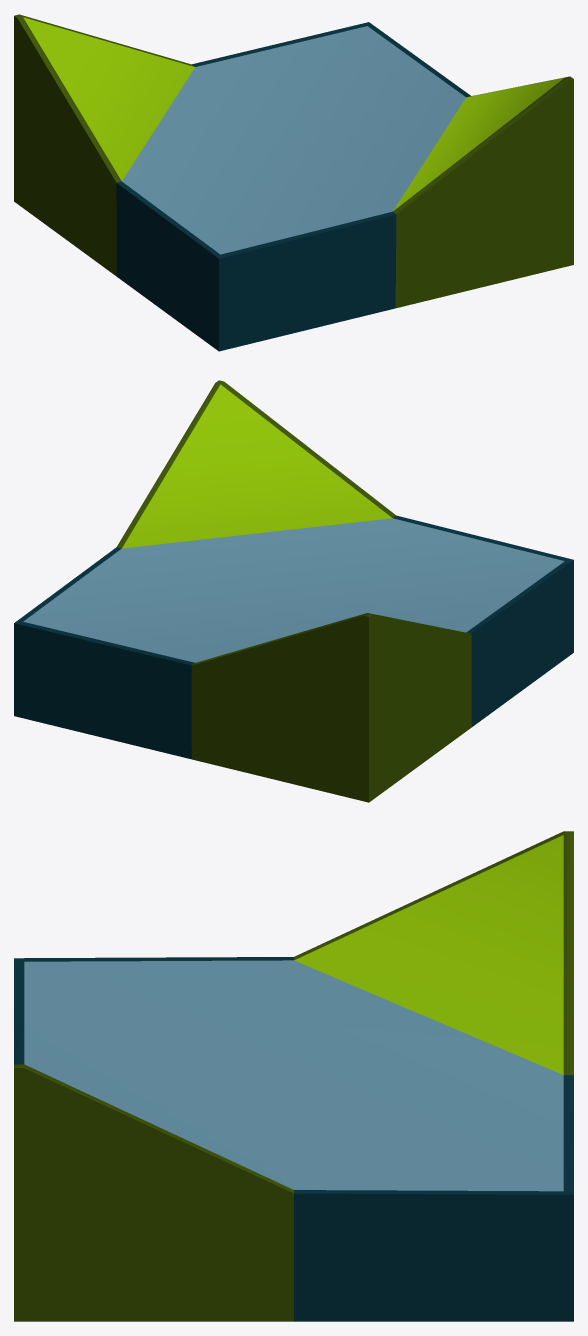
File: Agua_8.fbx
3 views of the same model, one above another, from view 1: azimuth 30°, elevation 25°; view 2: azimuth 150°, elevation 25°; view 3: azimuth 270°, elevation 25° (orthographic). The views are drawn at different scales.
Parts seen in each view (by area): view 1: pCube7; view 2: pCube7; view 3: pCube7.
Boxes of the visible parts, x1,y1,x2,y2 form: pCube7: (14,14,573,351); pCube7: (14,380,573,802); pCube7: (14,831,573,1321).
Size of the model in its own units: 200 by 100 by 200.
